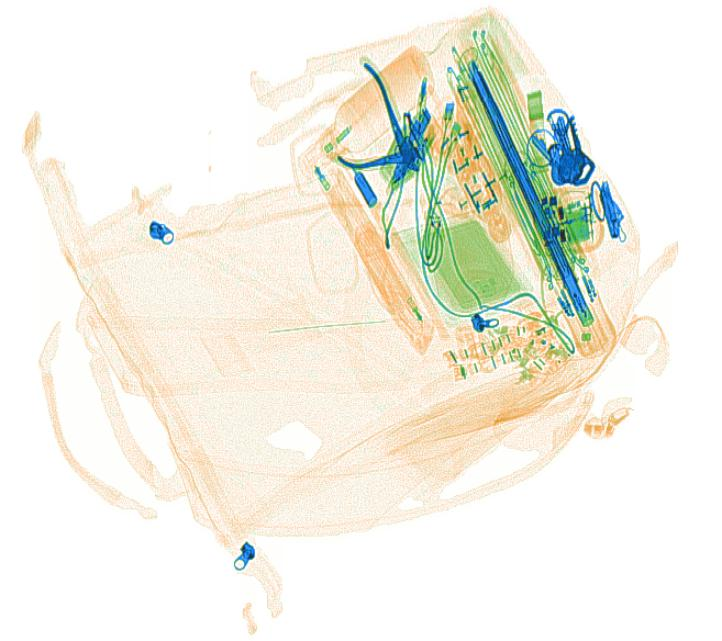plasticBottleWithaNozzle: (297, 46, 434, 185)
